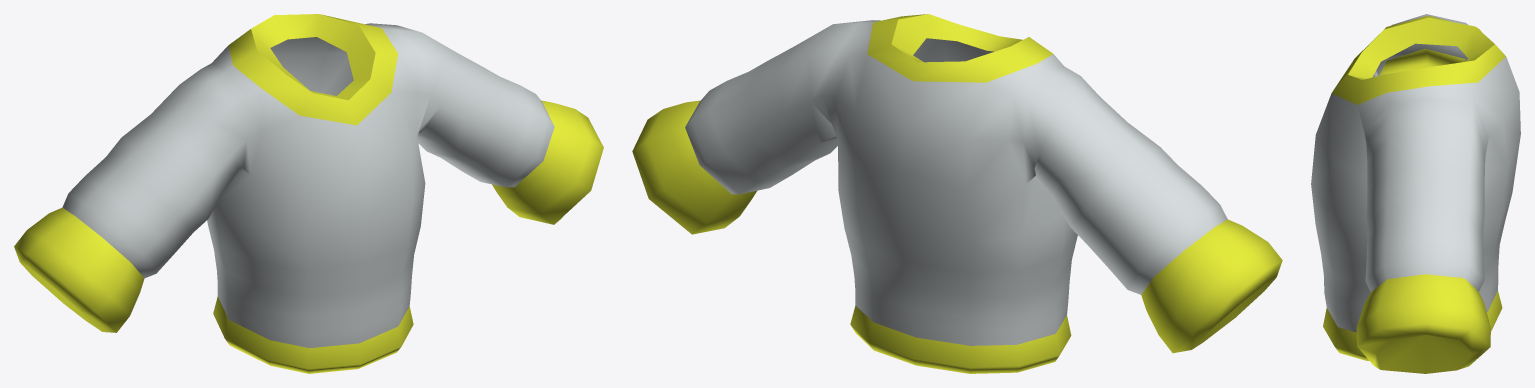
3 views of the same model, side by side, from view 1: azimuth 30°, elevation 25°; view 2: azimuth 150°, elevation 25°; view 3: azimuth 270°, elevation 25° (orthographic). The views are drawn at different scales.
Parts seen in each view (by area): view 1: Top_54.001; view 2: Top_54.001; view 3: Top_54.001.
Boxes of the visible parts, left/top/right/bottom form: Top_54.001: left=14, top=14, right=603, bottom=373; Top_54.001: left=632, top=14, right=1282, bottom=373; Top_54.001: left=1311, top=14, right=1520, bottom=373.
Bounding box in the file's own units: 90.3 × 45.39 × 29.6.
